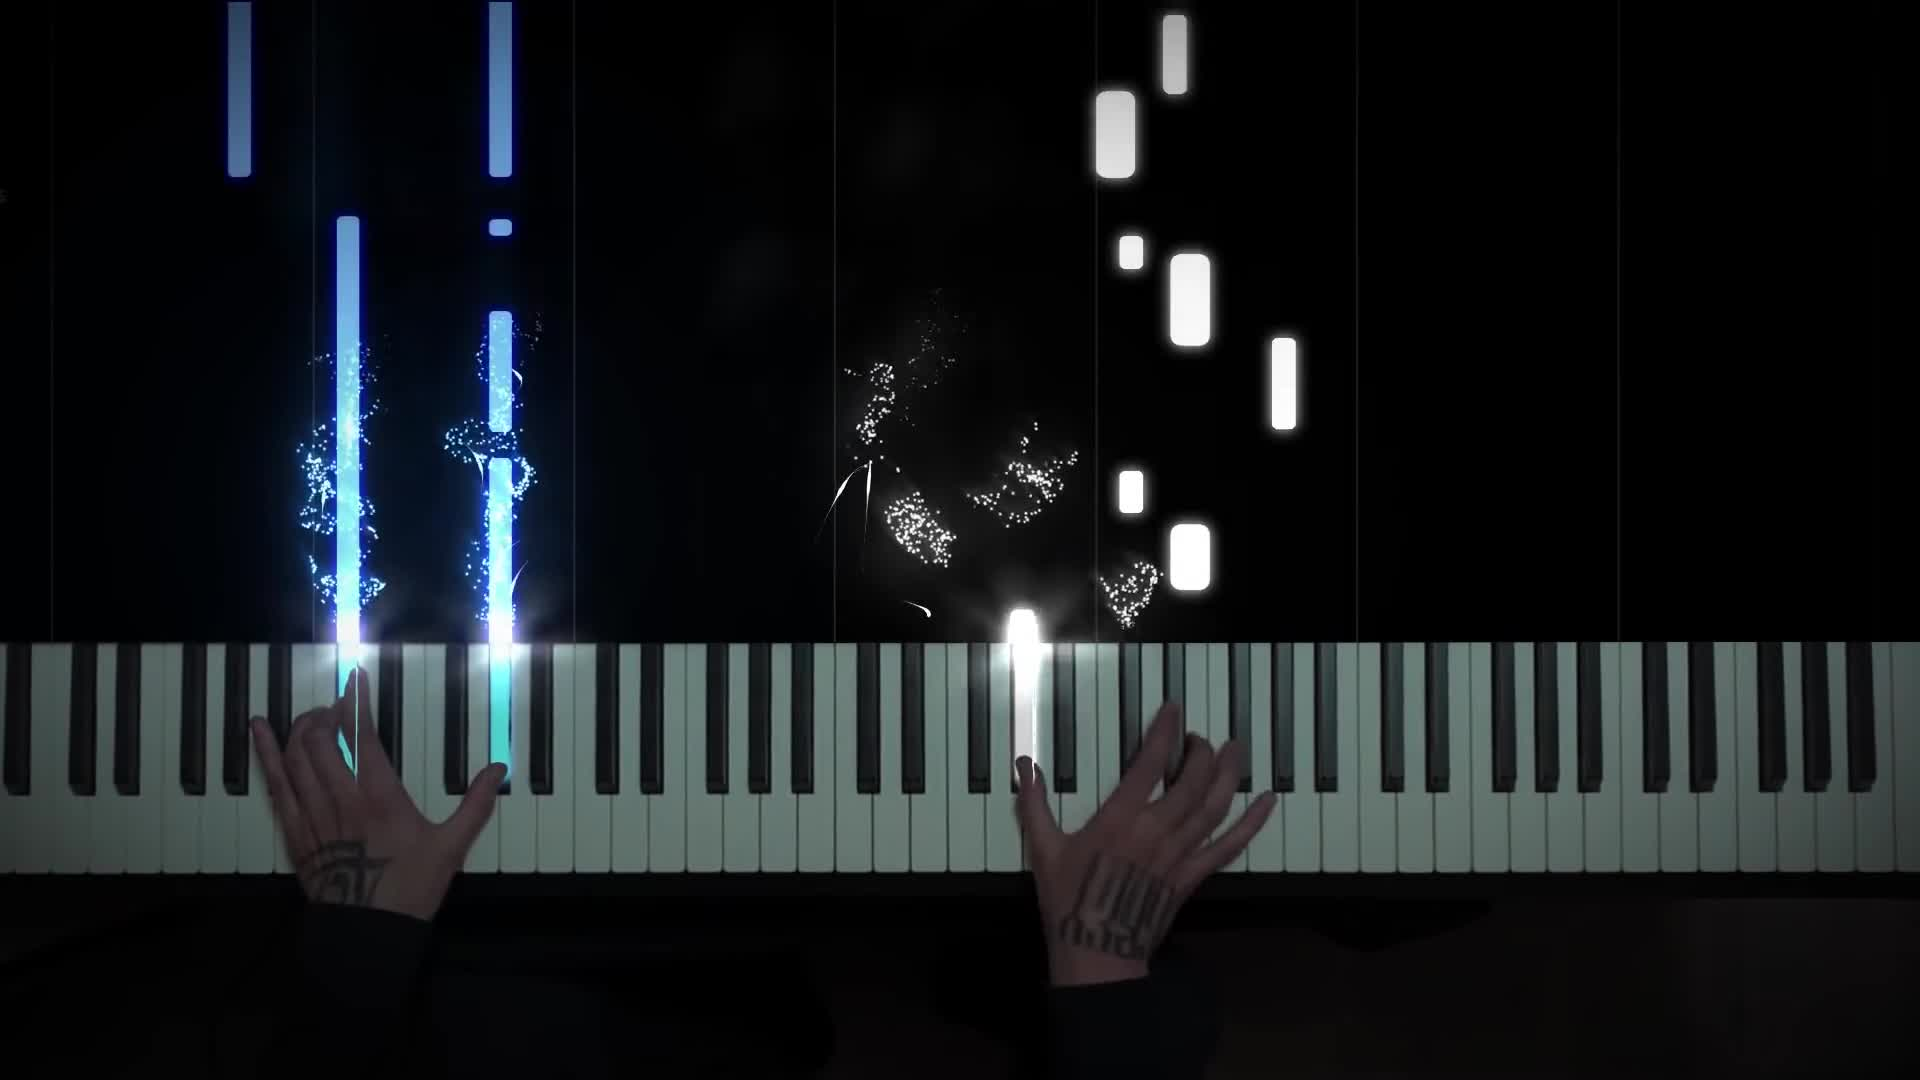left: (249, 666, 509, 931)
right: (1015, 698, 1276, 955)
